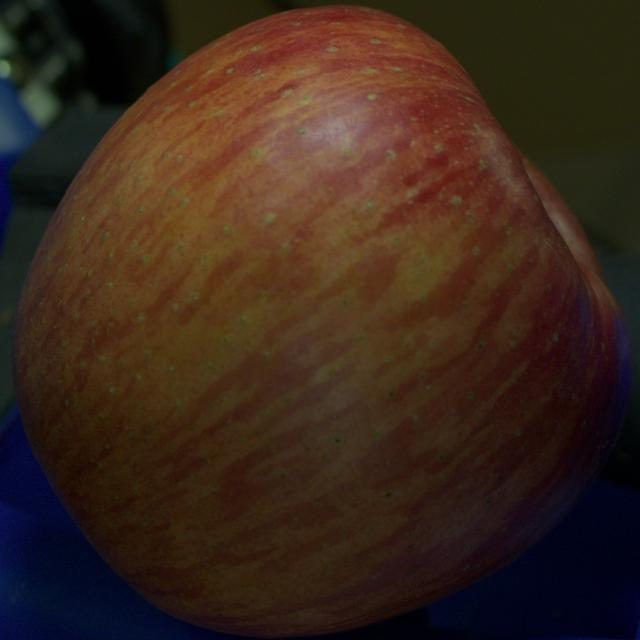apple: (12, 6, 631, 636)
